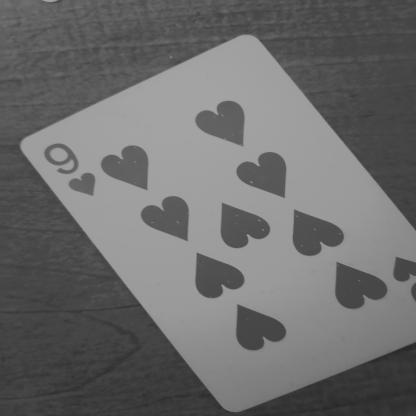9H: (38, 133, 106, 207)
